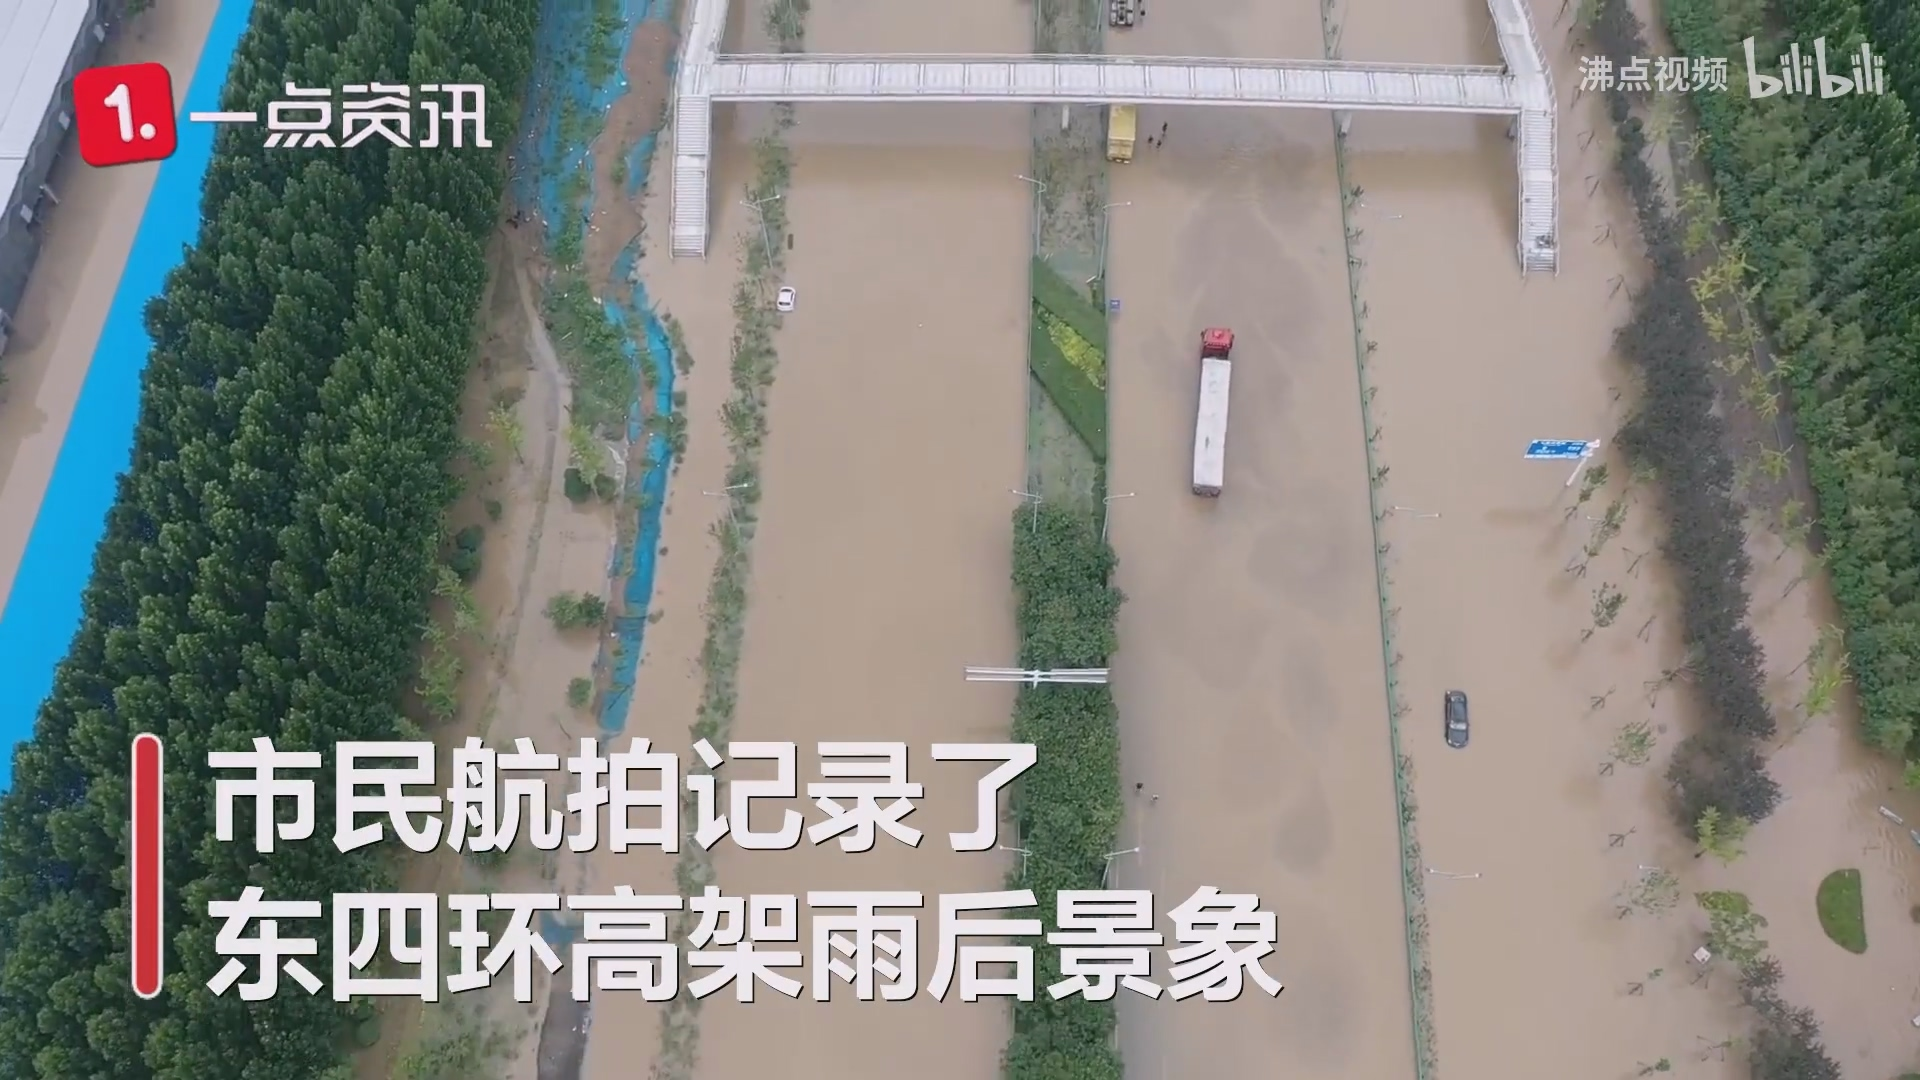puddle: (1110, 179, 1695, 884), (600, 175, 1073, 725)
